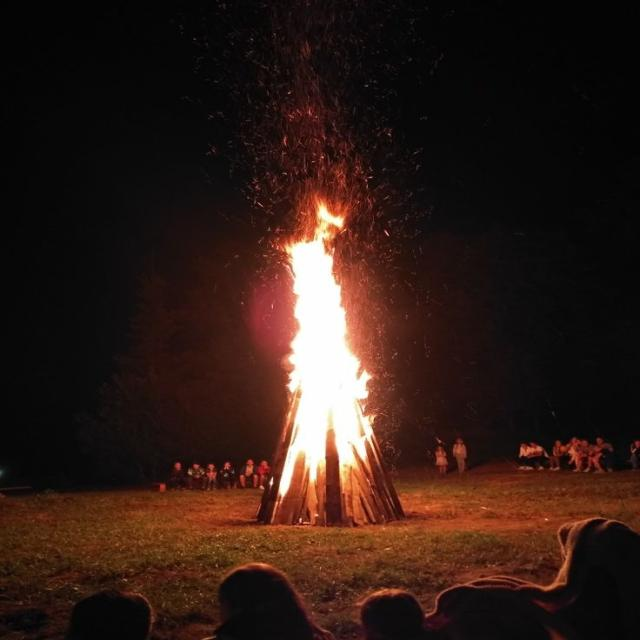fire: (276, 197, 376, 499)
